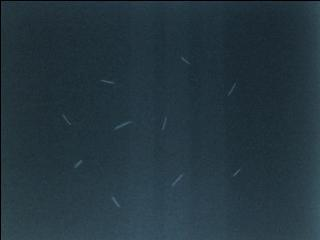scratch: (167, 170, 186, 188), (58, 111, 77, 129), (225, 80, 238, 99), (158, 112, 168, 132), (113, 120, 133, 130), (74, 158, 89, 171), (230, 166, 242, 178), (99, 78, 117, 86), (111, 196, 121, 208), (180, 55, 192, 65)
